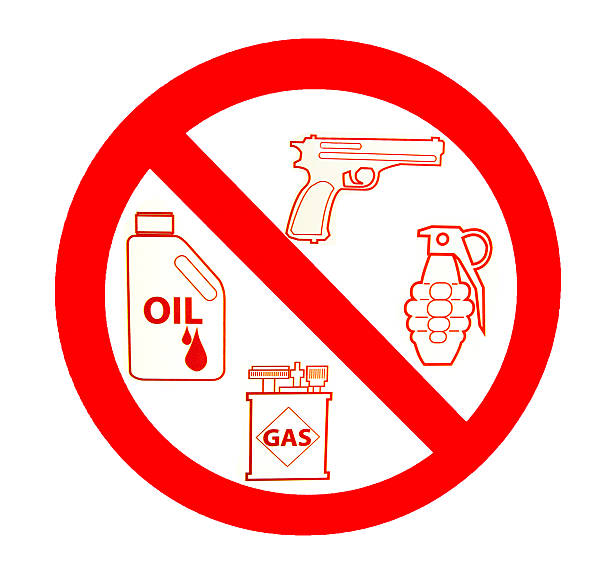e1: (405, 223, 490, 368)
